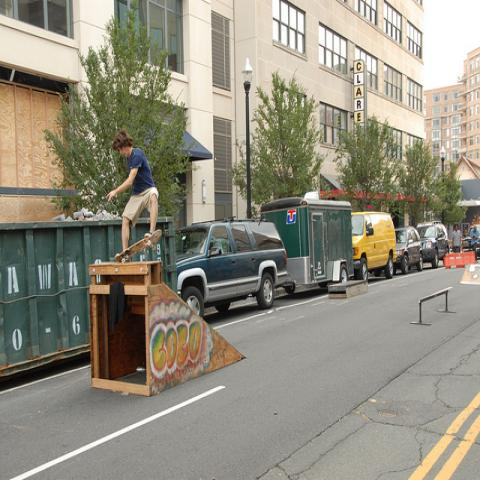car: (175, 216, 289, 319), (351, 212, 398, 280), (416, 220, 451, 268), (395, 227, 423, 273), (462, 237, 479, 259), (464, 226, 480, 249)
truck: (174, 216, 296, 320), (350, 210, 398, 280)
